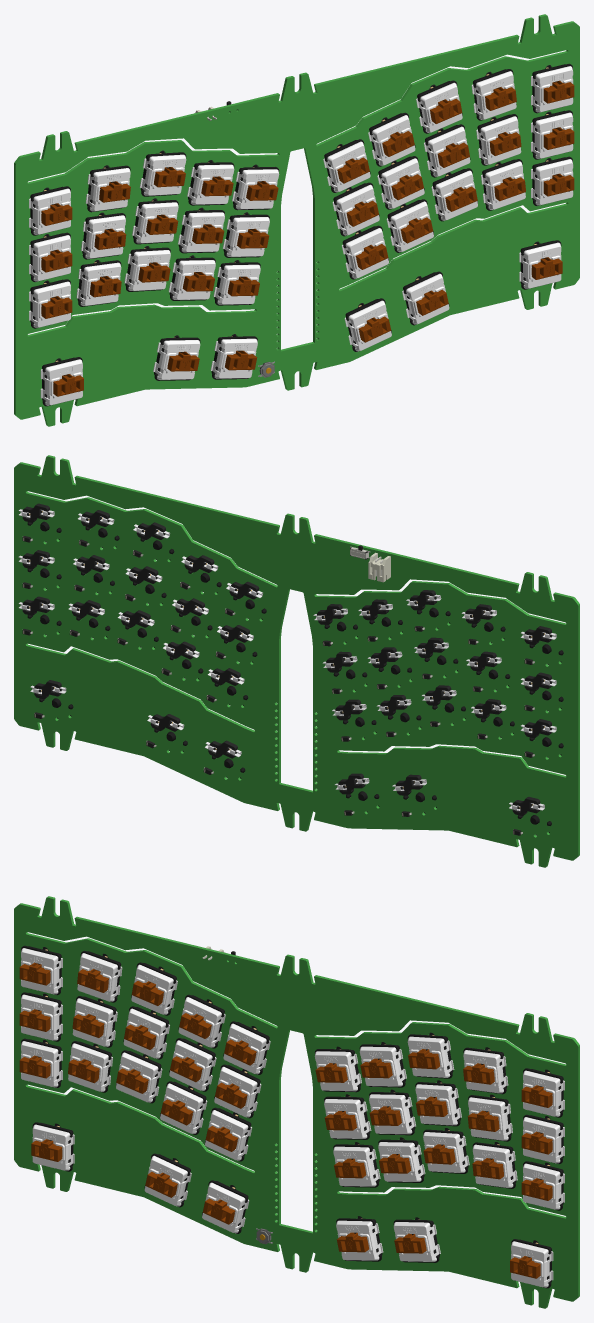
File: The-ENDGAME-MX-BAD-NEW v1.fbx
3 views of the same model, one above another, from view 1: azimuth 30°, elevation 25°; view 2: azimuth 150°, elevation 25°; view 3: azimuth 330°, elevation 25° (orthographic).
Visible parts, largest first — view 1: Body1 (×37), Body3 (×36); view 2: Body1 (×2); view 3: Body1 (×37), Body3 (×36).
Part boxes in pixels (x1=…): Body1 (×37): x1=14, y1=14, x2=579, y2=426; Body3 (×36): x1=41, y1=80, x2=574, y2=396; Body1 (×2): x1=14, y1=455, x2=579, y2=867; Body1 (×37): x1=14, y1=896, x2=579, y2=1308; Body3 (×36): x1=19, y1=962, x2=552, y2=1278.
Bounding box in the file's own units: 216 × 114 × 14.2.
